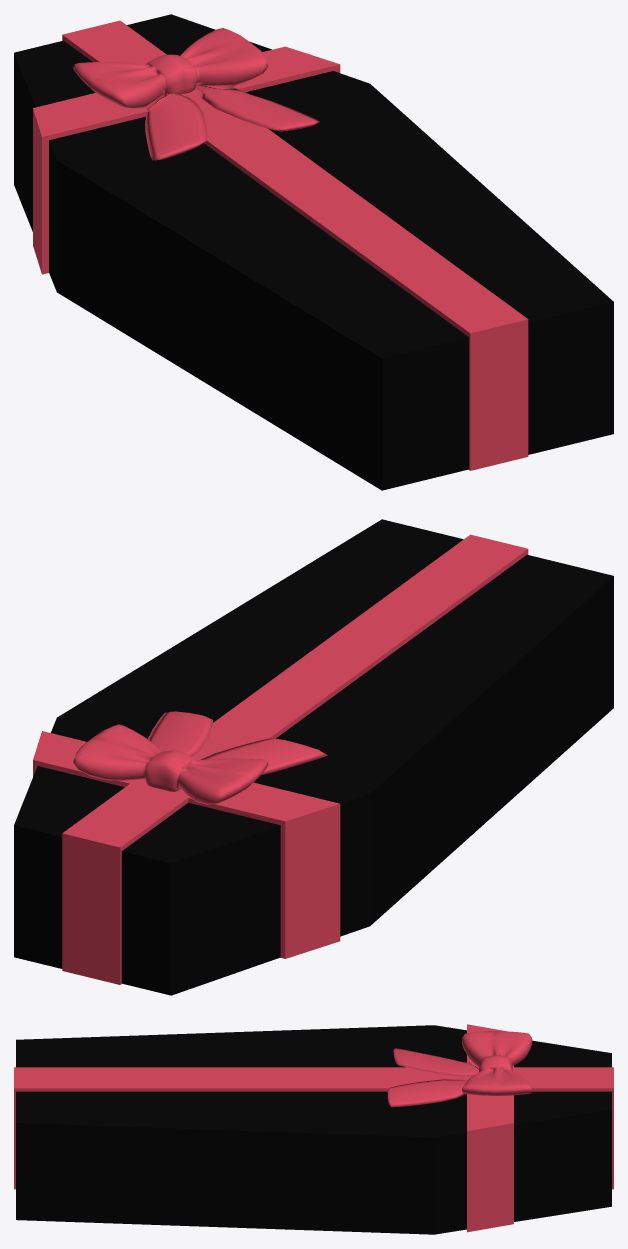
3 views of the same model, one above another, from view 1: azimuth 30°, elevation 25°; view 2: azimuth 150°, elevation 25°; view 3: azimuth 270°, elevation 25° (orthographic). The views are drawn at different scales.
Visible parts, largest first — view 1: Cube.005, Cube.001; view 2: Cube.005, Cube.001; view 3: Cube.005, Cube.001.
Part boxes in pixels (x1,y1,x2,y2): Cube.005: [14, 14, 613, 490]; Cube.001: [73, 28, 319, 160]; Cube.005: [14, 519, 613, 995]; Cube.001: [73, 711, 327, 804]; Cube.005: [14, 1024, 613, 1234]; Cube.001: [387, 1031, 532, 1107].
Size of the model in its own units: 244 by 123 by 551.
